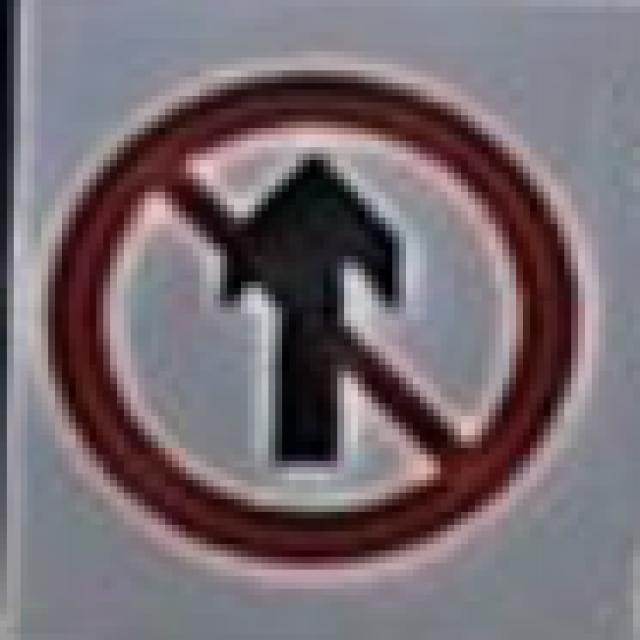Not that Direction: (38, 58, 620, 568)
